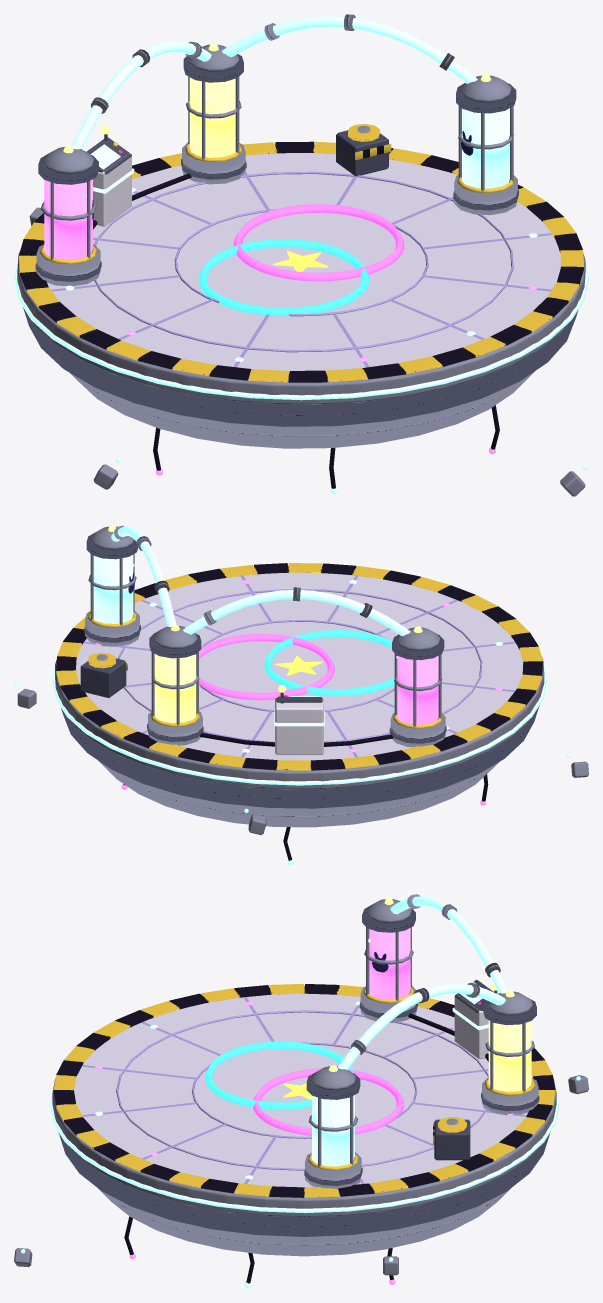
File: arena_lab.glb
3 renders of one model, top to bottom at view 1: azimuth 30°, elevation 25°; view 2: azimuth 150°, elevation 25°; view 3: azimuth 270°, elevation 25°, orthographic. The views are drawn at different scales.
Parts seen in each view (by area): view 1: Floor, Body, Pods, Markings, Tubes, Console, Under; view 2: Floor, Body, Pods, Markings, Console, Tubes, Under; view 3: Floor, Body, Pods, Markings, Tubes, Console, Under.
Part boxes in pixels (<box>): Floor: <box>47,153,560,370</box>; Body: <box>14,141,588,448</box>; Pods: <box>35,43,518,286</box>; Markings: <box>51,171,551,367</box>; Tubes: <box>71,14,477,229</box>; Console: <box>87,124,391,226</box>; Under: <box>29,207,587,496</box>; Floor: <box>76,572,522,760</box>; Body: <box>52,563,546,827</box>; Pods: <box>84,525,446,747</box>; Markings: <box>84,575,514,757</box>; Console: <box>80,652,324,755</box>; Tubes: <box>111,525,410,746</box>; Under: <box>14,682,588,865</box>; Floor: <box>74,993,532,1187</box>; Body: <box>49,984,559,1256</box>; Pods: <box>304,898,539,1188</box>; Markings: <box>82,997,526,1183</box>; Tubes: <box>337,894,507,1069</box>; Console: <box>433,979,497,1160</box>; Under: <box>14,1075,588,1288</box>.
Bounding box in the file's own units: 7.86 × 4.3 × 7.97.
